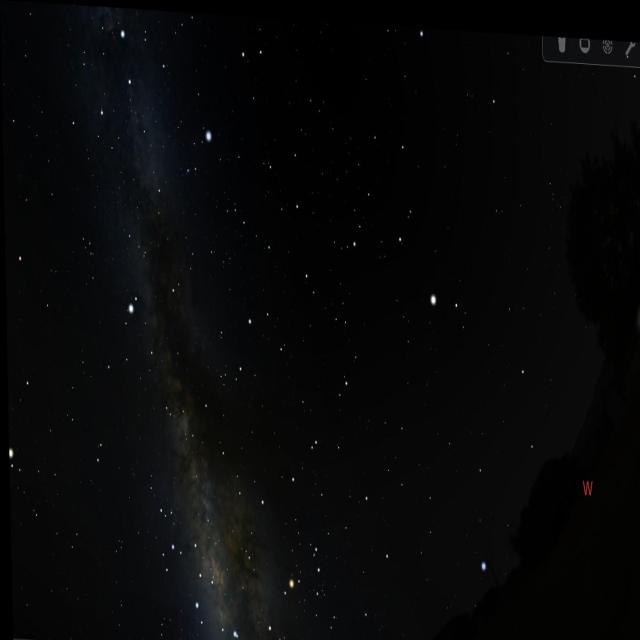aquila: (97, 258, 191, 436)
bootes: (358, 122, 473, 347)
cygnus: (89, 21, 182, 219)
lyra: (182, 124, 218, 183)
sagittarius: (143, 480, 215, 616)
scorpius: (215, 508, 332, 640)
